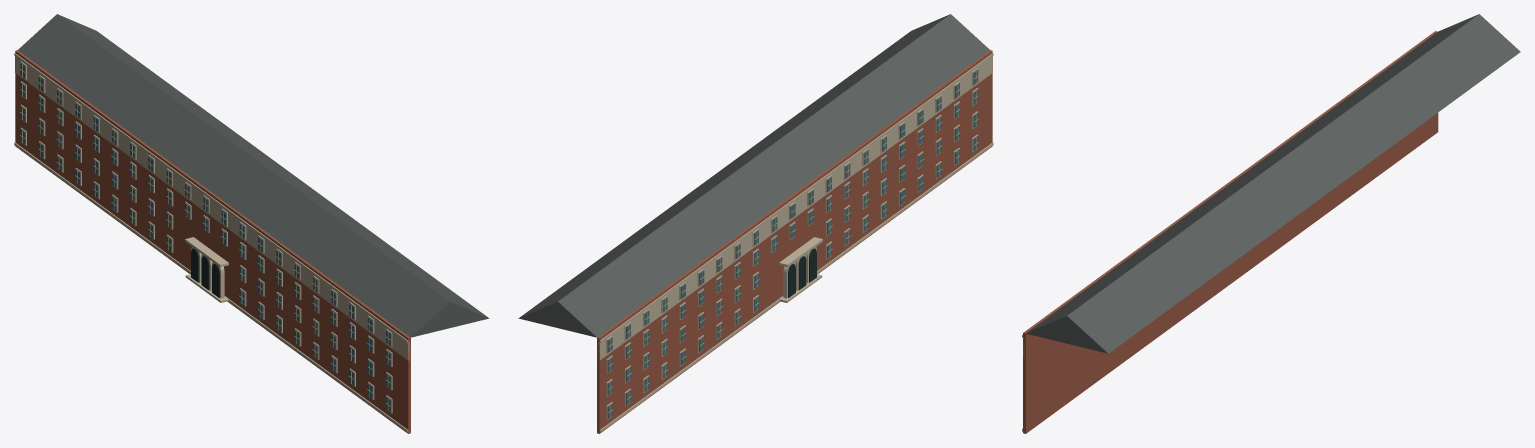
The model's file is straub-west-roof-overlay-2026-11-04.glb.
3 views of the same model, side by side, from view 1: azimuth 30°, elevation 25°; view 2: azimuth 150°, elevation 25°; view 3: azimuth 330°, elevation 25° (orthographic). The views are drawn at different scales.
Parts seen in each view (by area): view 1: straub-part-0; view 2: straub-part-0; view 3: straub-part-0.
Boxes of the visible parts, x1,y1,x2,y2 form: straub-part-0: [14, 14, 489, 433]; straub-part-0: [518, 14, 993, 433]; straub-part-0: [1022, 14, 1520, 433].
Bounding box in the file's own units: 11.45 × 14.75 × 86.
